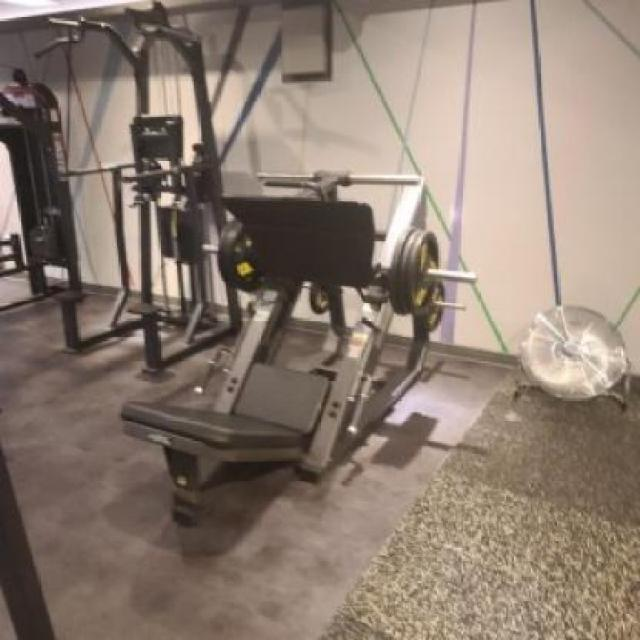leg press: (111, 160, 483, 540)
